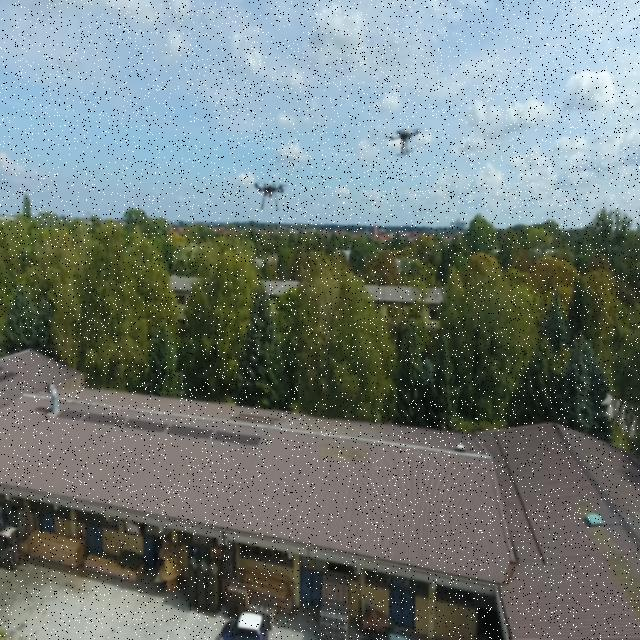UAV: (243, 171, 293, 211), (380, 121, 426, 160)
